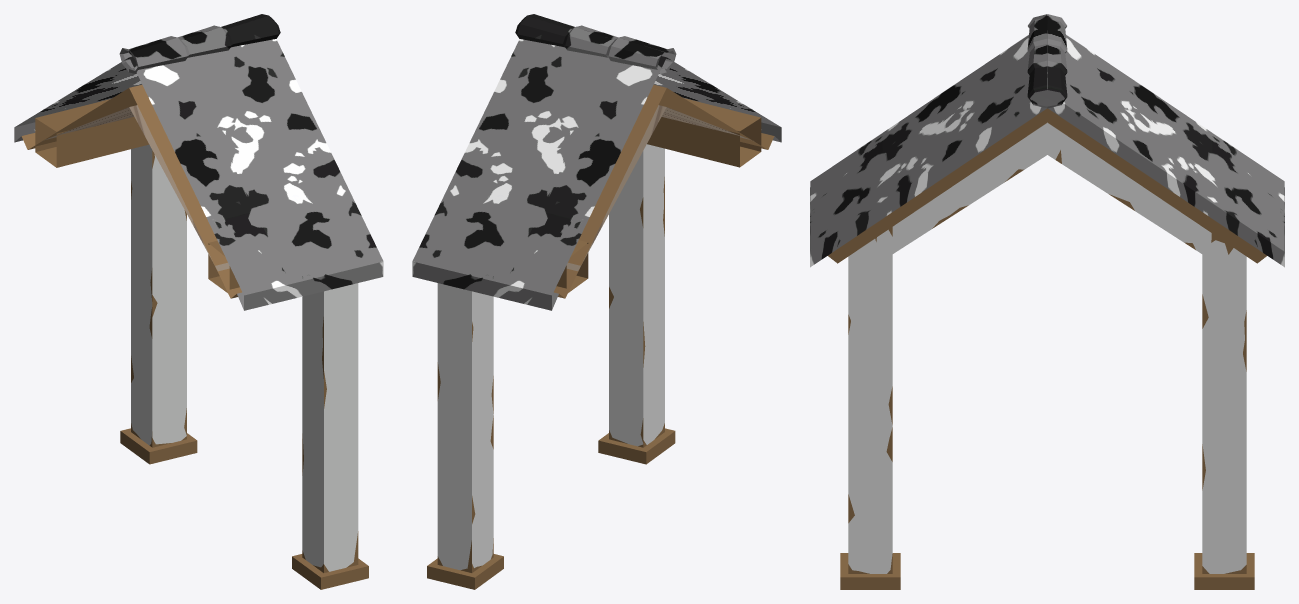
File: SM_Bld_House_Porch_03b.obj
3 renders of one model, left to right at view 1: azimuth 30°, elevation 25°; view 2: azimuth 150°, elevation 25°; view 3: azimuth 270°, elevation 25°, orthographic. The views are drawn at different scales.
Parts seen in each view (by area): view 1: SM_Bld_House_Porch_03b_mat_HouseRoof_02, SM_Bld_House_Porch_03b_Mat_SwatchOverlay_Farm_01_WoodRotated_Ins, SM_Bld_House_Porch_03b_mi_HouseExteriorWalls_01; view 2: SM_Bld_House_Porch_03b_mat_HouseRoof_02, SM_Bld_House_Porch_03b_Mat_SwatchOverlay_Farm_01_WoodRotated_Ins, SM_Bld_House_Porch_03b_mi_HouseExteriorWalls_01; view 3: SM_Bld_House_Porch_03b_Mat_SwatchOverlay_Farm_01_WoodRotated_Ins, SM_Bld_House_Porch_03b_mat_HouseRoof_02.
Boxes of the visible parts, x1,y1,x2,y2 form: SM_Bld_House_Porch_03b_mat_HouseRoof_02: (14, 14, 383, 310); SM_Bld_House_Porch_03b_Mat_SwatchOverlay_Farm_01_WoodRotated_Ins: (21, 85, 368, 589); SM_Bld_House_Porch_03b_mi_HouseExteriorWalls_01: (44, 105, 229, 271); SM_Bld_House_Porch_03b_mat_HouseRoof_02: (412, 14, 781, 310); SM_Bld_House_Porch_03b_Mat_SwatchOverlay_Farm_01_WoodRotated_Ins: (427, 85, 774, 589); SM_Bld_House_Porch_03b_mi_HouseExteriorWalls_01: (566, 105, 751, 271); SM_Bld_House_Porch_03b_Mat_SwatchOverlay_Farm_01_WoodRotated_Ins: (828, 108, 1266, 589); SM_Bld_House_Porch_03b_mat_HouseRoof_02: (810, 14, 1284, 267).
Bounding box in the file's own units: 1.84 × 6.02 × 5.12.
Materials: 3 (3 with a texture image).
